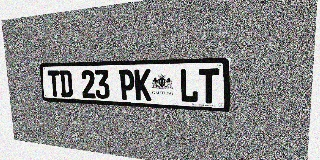2: (81, 70, 96, 98)
3: (94, 70, 110, 99)
D: (59, 70, 73, 97)
K: (134, 69, 151, 101)
L: (179, 69, 198, 103)
P: (119, 69, 135, 100)
T: (199, 68, 219, 104), (47, 70, 61, 97)
